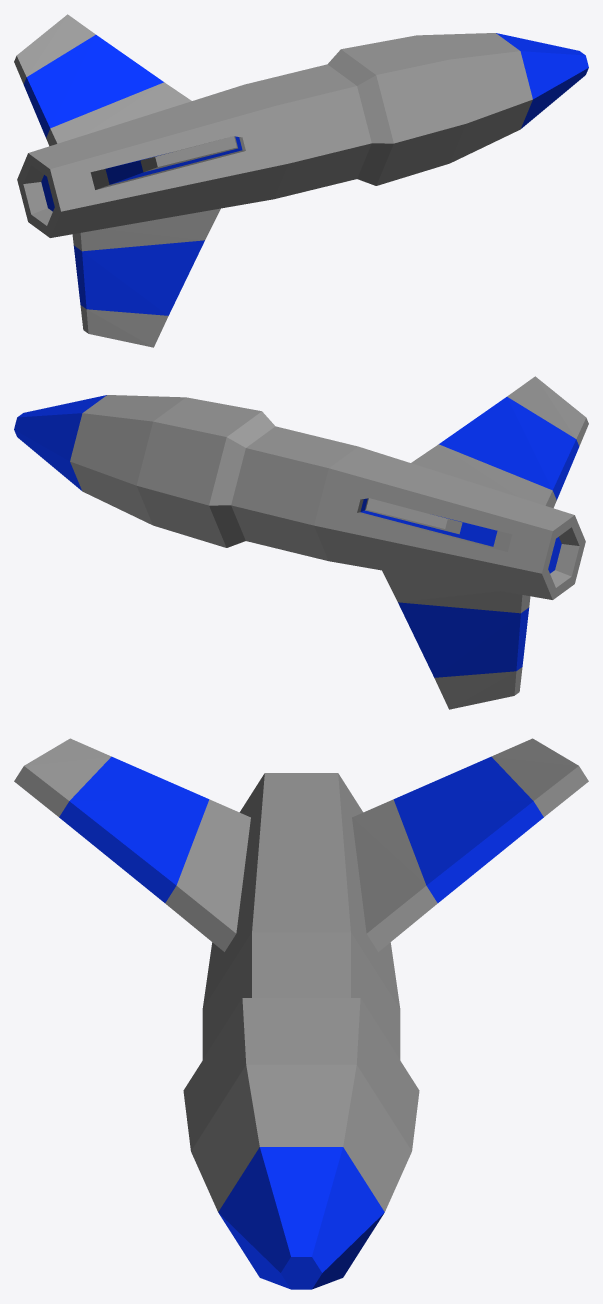
File: SM_Missile.FBX
3 renders of one model, top to bottom at view 1: azimuth 30°, elevation 25°; view 2: azimuth 150°, elevation 25°; view 3: azimuth 270°, elevation 25°, orthographic. The views are drawn at different scales.
Visible parts, largest first — view 1: Cylinder001; view 2: Cylinder001; view 3: Cylinder001.
Boxes of the visible parts, left/top/right/bottom form: Cylinder001: left=14, top=14, right=588, bottom=347; Cylinder001: left=14, top=376, right=588, bottom=709; Cylinder001: left=14, top=738, right=588, bottom=1289.
Bounding box in the file's own units: 141 × 66.88 × 77.23.
